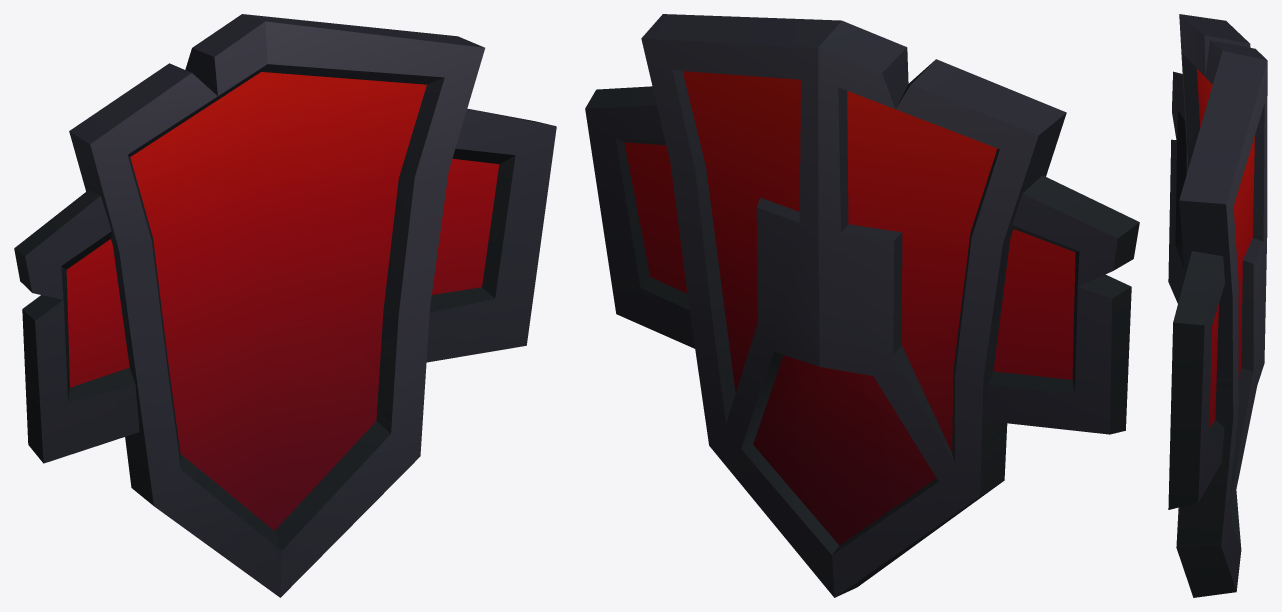
File: GAM0210017.fbx
3 renders of one model, left to right at view 1: azimuth 30°, elevation 25°; view 2: azimuth 150°, elevation 25°; view 3: azimuth 270°, elevation 25°, orthographic. The views are drawn at different scales.
Parts seen in each view (by area): view 1: smGAM0210017; view 2: smGAM0210017; view 3: smGAM0210017.
Part boxes in pixels (x1,y1,x2,y2): smGAM0210017: (14, 14, 556, 597); smGAM0210017: (585, 14, 1139, 597); smGAM0210017: (1168, 14, 1267, 597).
Bounding box in the file's own units: 71.08 × 72.24 × 11.86.
1 material, 1 textured.
